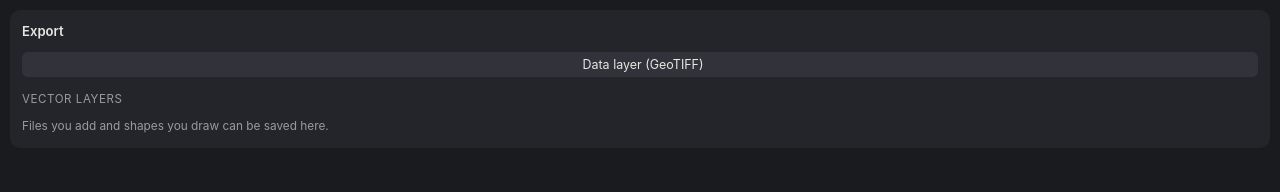
GeoTIFF export progress › gives up after the timeout and says why
The image size is (1280, 192).
Later steps or results of the test are not shown.
What coordinates should you click on to do the following:
click the button "Data layer (GeoTIFF)"
I would click on:
 (640, 64)
Its box is [22,52,1258,77].
Wait 124000 ms
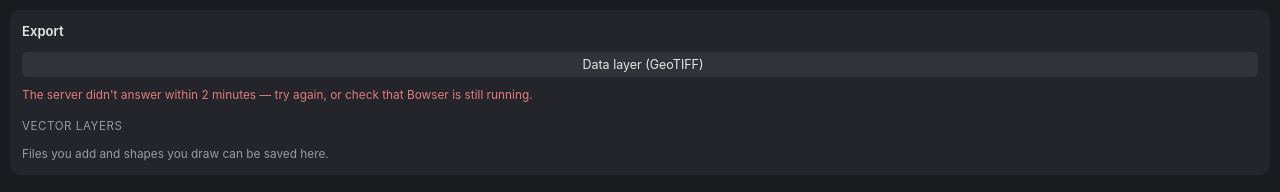
Check: the text "didn't answer within 2 minutes" is shown, box [22,88,533,102]
